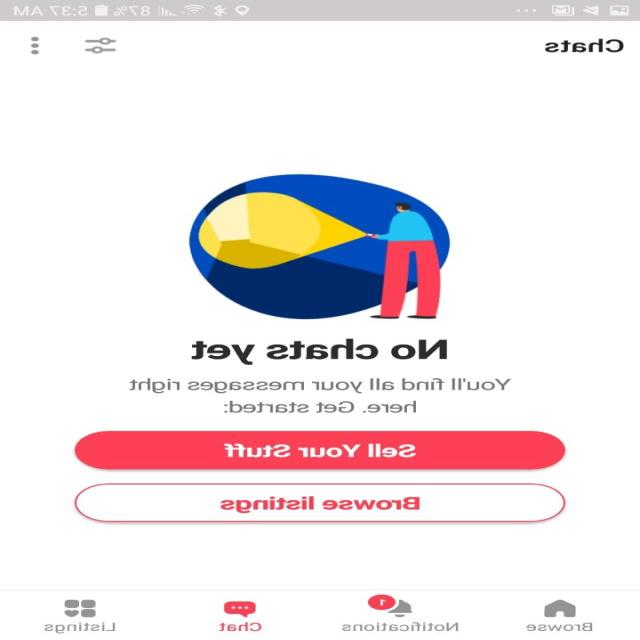Icon: (368, 593, 413, 617), (544, 598, 577, 617), (65, 599, 98, 617), (224, 600, 257, 618), (86, 37, 118, 54), (31, 37, 41, 55)
Image: (189, 174, 452, 319)
Text: (130, 377, 512, 413), (191, 338, 448, 365), (545, 38, 624, 53), (342, 621, 459, 631), (45, 621, 116, 634), (526, 622, 593, 631), (220, 621, 264, 631)
TextButton: (74, 430, 566, 470), (74, 482, 566, 522)
